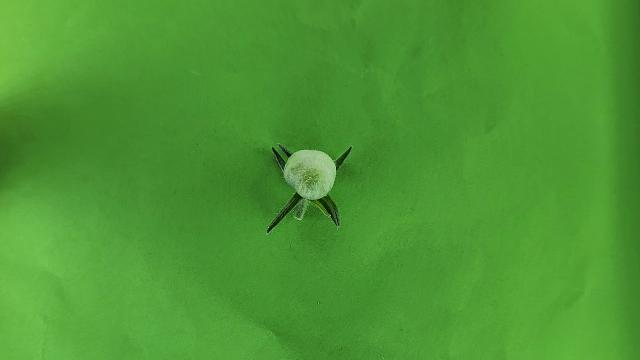Fruit Maturation: (283, 149, 337, 199)
